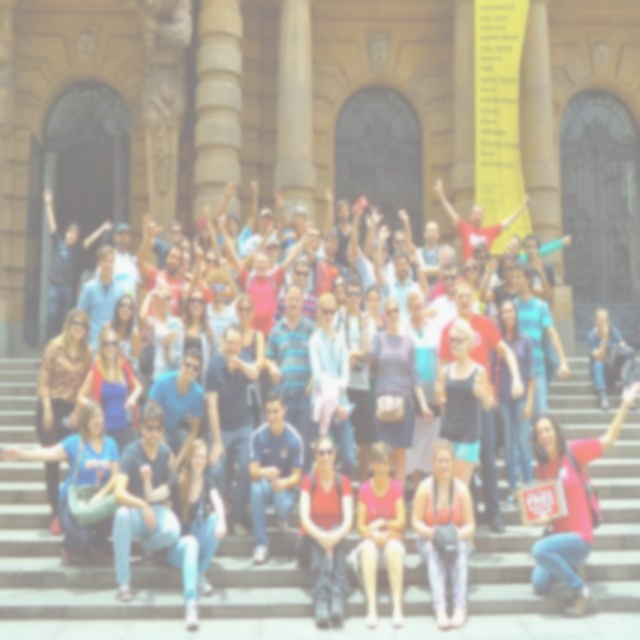pessoa: (530, 378, 640, 620), (436, 279, 526, 535), (0, 398, 122, 567), (218, 214, 316, 424), (138, 437, 229, 632), (33, 304, 101, 536), (360, 296, 435, 494), (112, 403, 182, 603), (286, 432, 355, 628), (411, 438, 476, 631), (203, 320, 260, 538), (42, 187, 115, 347), (262, 281, 318, 479), (488, 296, 538, 509), (433, 316, 493, 490), (247, 388, 304, 566), (220, 292, 266, 512), (356, 440, 407, 630), (509, 262, 571, 418), (308, 292, 358, 481), (402, 284, 444, 508), (332, 275, 377, 483), (76, 328, 144, 464), (434, 178, 534, 265), (168, 286, 222, 442), (143, 347, 204, 477), (202, 202, 276, 308), (348, 204, 414, 318), (136, 215, 206, 318), (522, 232, 561, 414), (76, 244, 128, 364), (100, 293, 143, 434), (586, 306, 640, 414), (372, 224, 430, 321), (288, 185, 336, 292), (138, 281, 184, 392), (94, 221, 142, 326), (476, 250, 554, 312), (373, 225, 421, 317), (212, 178, 260, 262), (296, 218, 346, 298), (422, 260, 480, 328), (488, 230, 572, 275), (271, 258, 320, 328), (242, 186, 288, 260), (244, 235, 296, 298), (206, 268, 240, 354), (472, 240, 504, 328), (76, 224, 115, 296), (141, 211, 184, 273), (415, 220, 445, 307), (327, 198, 362, 270), (194, 247, 238, 304), (426, 243, 466, 304), (341, 213, 374, 283), (461, 255, 489, 318), (364, 282, 391, 334), (190, 215, 216, 268), (283, 204, 308, 248), (177, 235, 194, 283), (330, 272, 348, 312), (590, 40, 614, 69), (368, 34, 388, 67), (78, 32, 94, 62)
